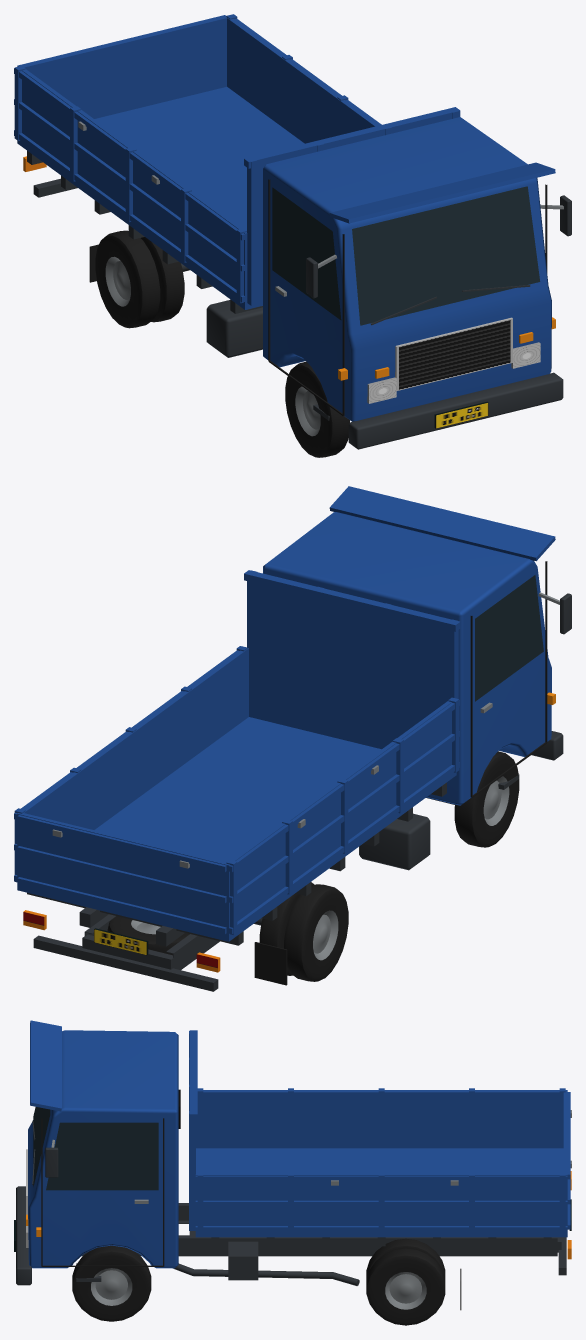
The model's file is truck_407.glb.
The picture shows the model from 3 angles, top to bottom: view 1: azimuth 30°, elevation 25°; view 2: azimuth 150°, elevation 25°; view 3: azimuth 270°, elevation 25°; orthographic projection. The views are drawn at different scales.
Parts seen in each view (by area): view 1: truck_407; view 2: truck_407; view 3: truck_407.
Boxes of the visible parts, x1,y1,x2,y2 form: truck_407: (14, 14, 571, 457); truck_407: (14, 486, 571, 991); truck_407: (14, 1020, 571, 1325).
Size of the model in its own units: 2.45 by 2.48 by 5.6.
Materials: 6 (1 with a texture image).
